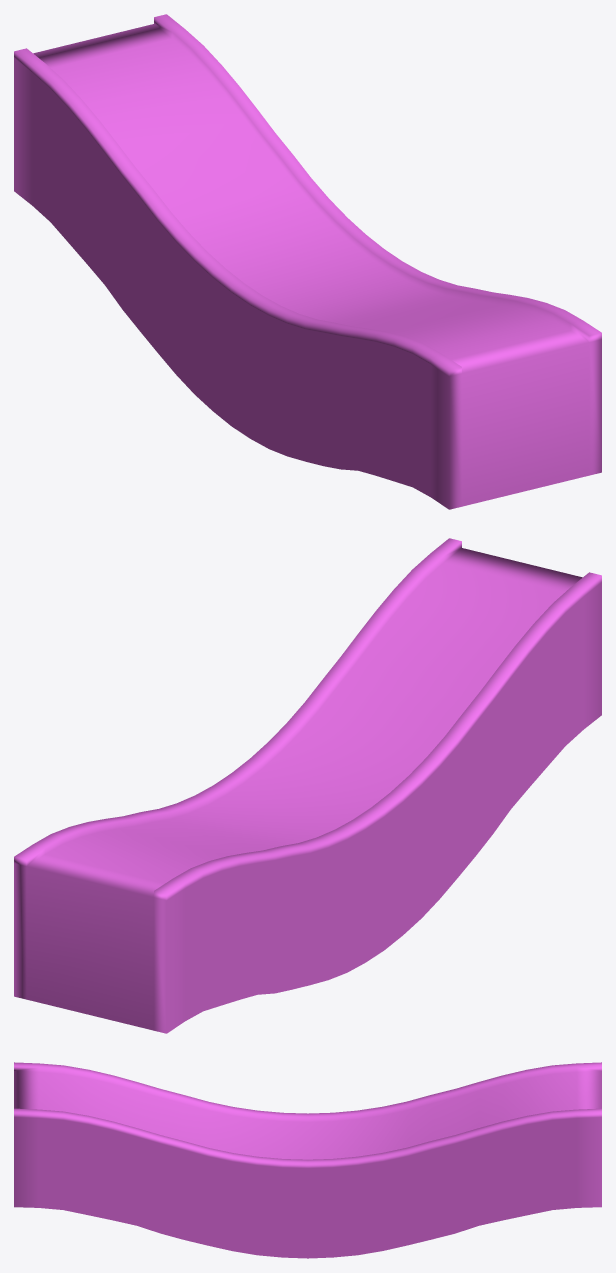
File: RD_Dip_Bridge1.fbx
The picture shows the model from 3 angles, top to bottom: view 1: azimuth 30°, elevation 25°; view 2: azimuth 150°, elevation 25°; view 3: azimuth 270°, elevation 25°; orthographic projection. The views are drawn at different scales.
Parts seen in each view (by area): view 1: Mesh; view 2: Mesh; view 3: Mesh.
Part boxes in pixels (bbox=[...]): Mesh: bbox=[14, 14, 601, 509]; Mesh: bbox=[14, 538, 601, 1033]; Mesh: bbox=[14, 1062, 601, 1258].
Size of the model in its own units: 480 by 648 by 2370.
